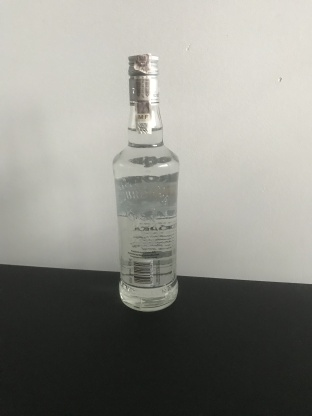nakretka: (126, 51, 161, 105)
